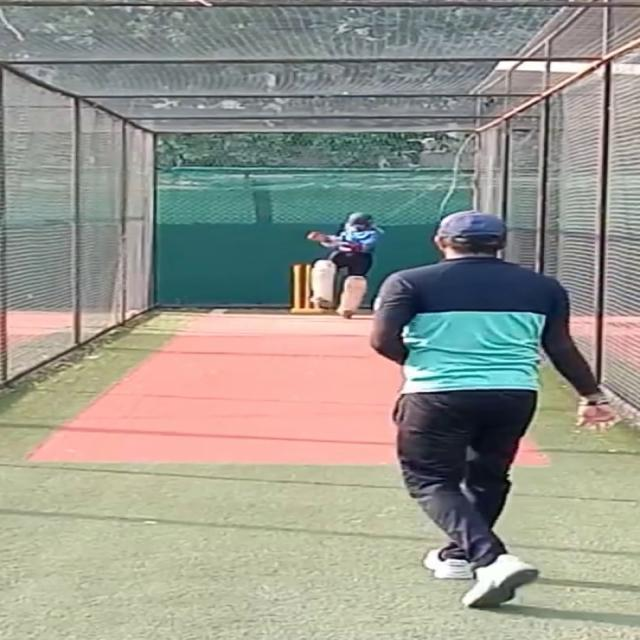stump: (290, 262, 316, 314)
